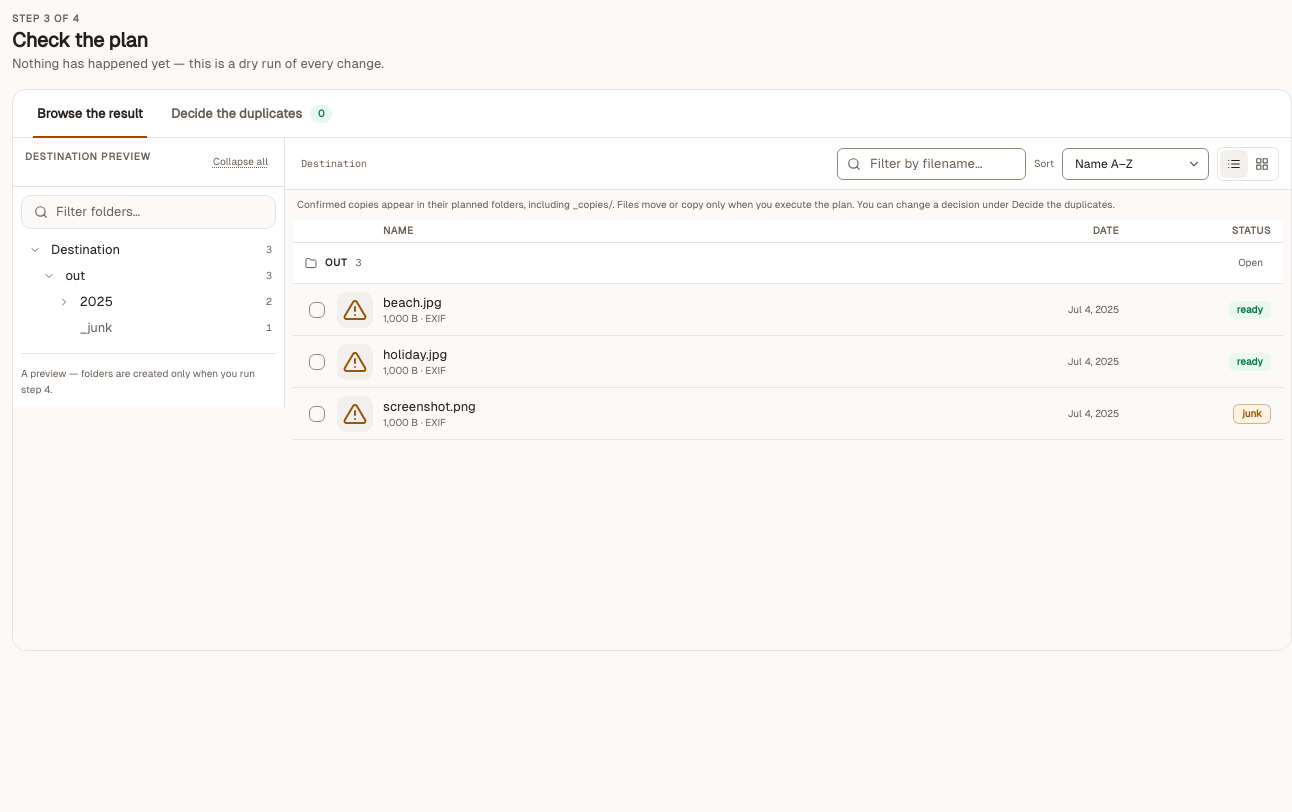
browse › composes the search box with the folder
The width and height of the screenshot is (1292, 812).
Check: the checkbox named "holiday.jpg" is shown, box [309, 354, 325, 370]
Type "beach" into the search field.
click(932, 164); type("beach")  # box [837, 148, 1026, 180]
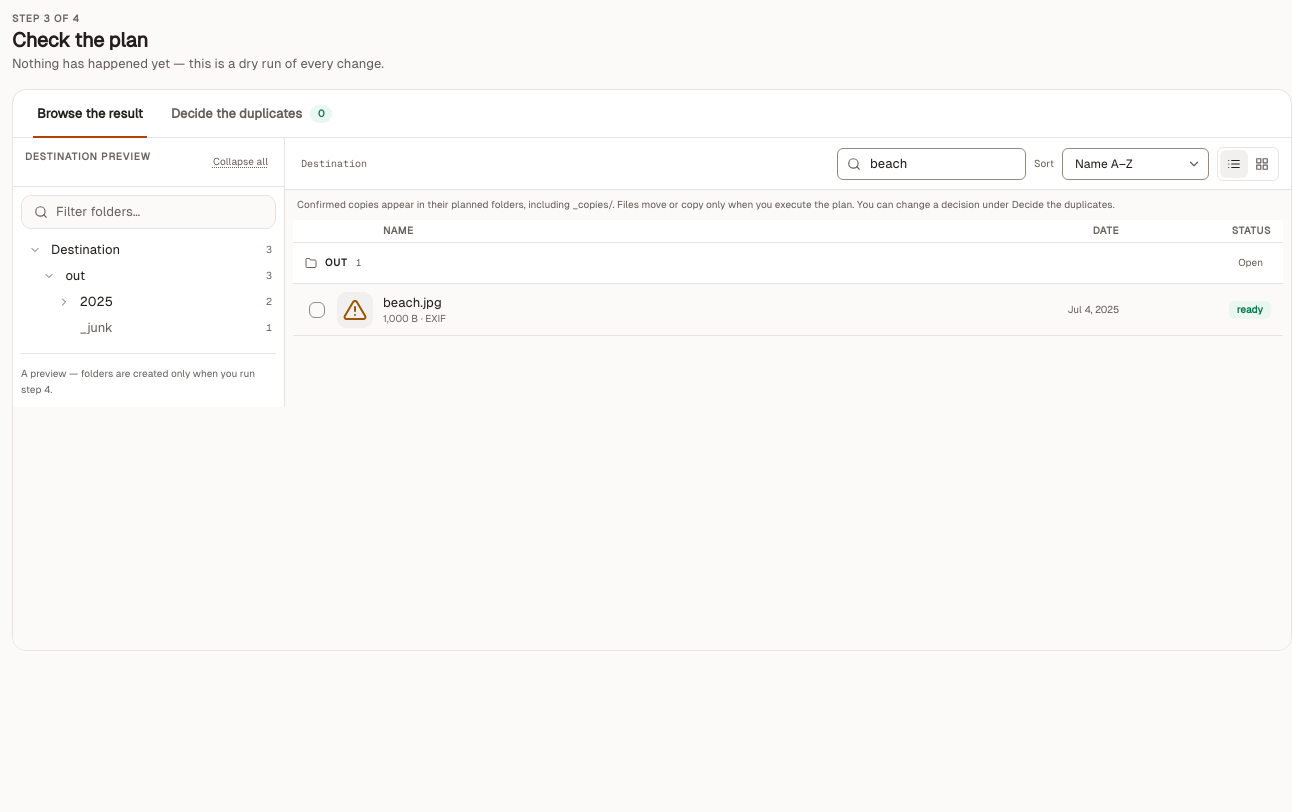
Check: the checkbox named "beach.jpg" is shown, box [309, 302, 325, 318]
Check: the button "holiday.jpg" is gone
